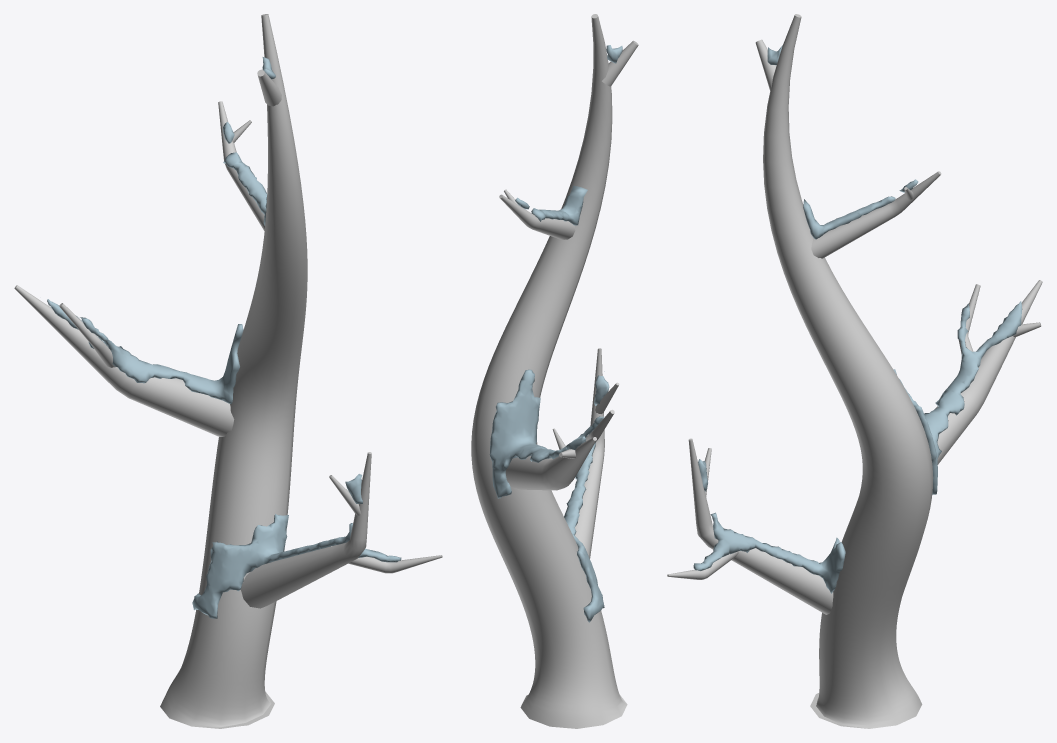
Rendered from BranchTree_1.obj.
3 renders of one model, left to right at view 1: azimuth 30°, elevation 25°; view 2: azimuth 150°, elevation 25°; view 3: azimuth 270°, elevation 25°, orthographic. The views are drawn at different scales.
Parts seen in each view (by area): view 1: Branch_Tree__1, Snow_on_Tree_Branch_1; view 2: Branch_Tree__1, Snow_on_Tree_Branch_1; view 3: Branch_Tree__1, Snow_on_Tree_Branch_1.
Part boxes in pixels (left/top/right/bottom): Branch_Tree__1: left=14, top=14, right=442, bottom=728; Snow_on_Tree_Branch_1: left=47, top=57, right=401, bottom=618; Branch_Tree__1: left=471, top=14, right=638, bottom=728; Snow_on_Tree_Branch_1: left=489, top=45, right=622, bottom=622; Branch_Tree__1: left=667, top=14, right=1042, bottom=728; Snow_on_Tree_Branch_1: left=693, top=45, right=1022, bottom=593.
Bounding box in the file's own units: 0.3482 × 1 × 0.4886.
